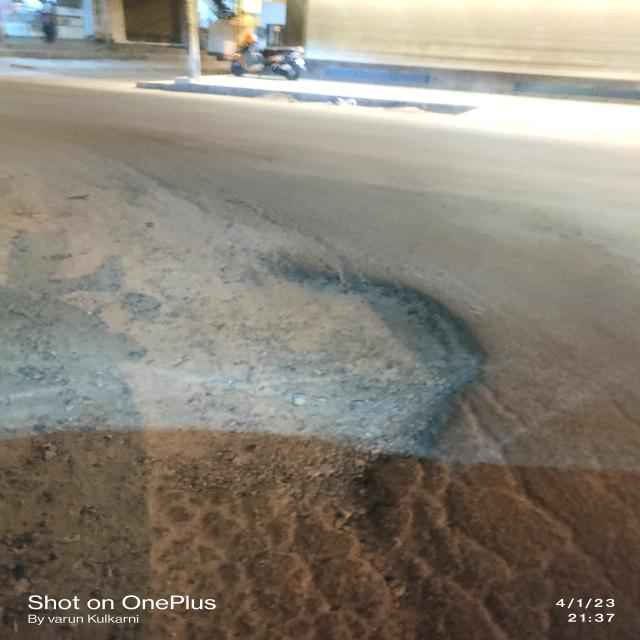potholes: (240, 248, 500, 520)
